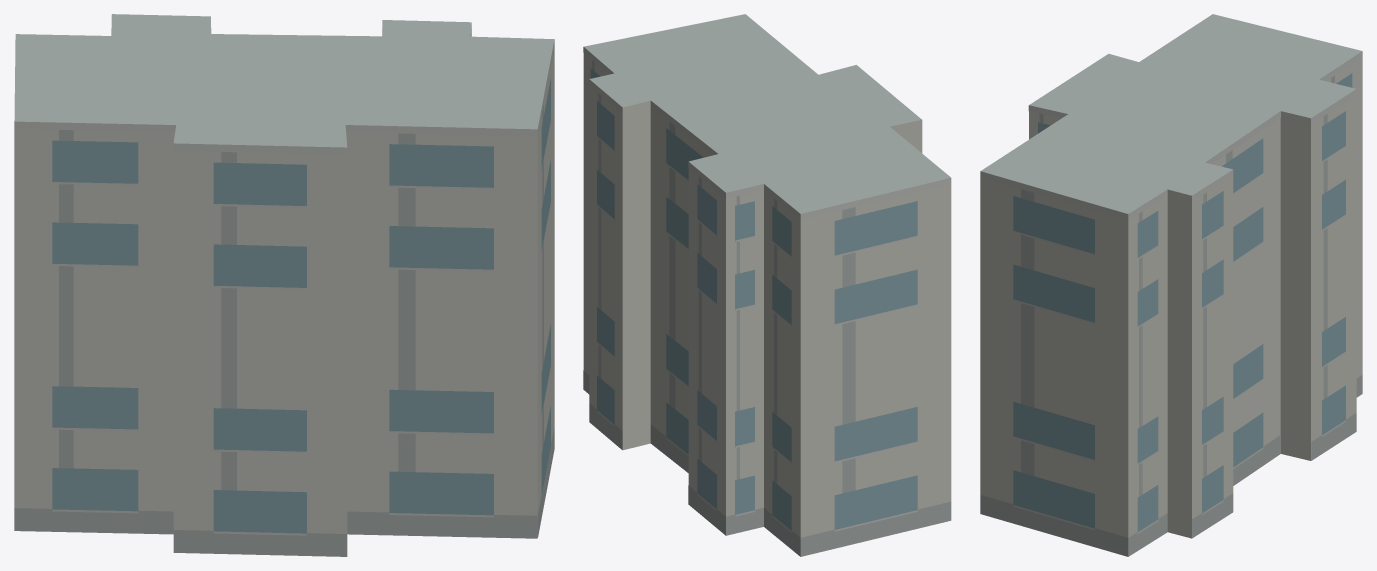
Rendered from survey-upis-32802492.glb.
3 views of the same model, side by side, from view 1: azimuth 30°, elevation 25°; view 2: azimuth 150°, elevation 25°; view 3: azimuth 270°, elevation 25° (orthographic). The views are drawn at different scales.
Visible parts, largest first — view 1: survey-upis-32802492.tmp; view 2: survey-upis-32802492.tmp; view 3: survey-upis-32802492.tmp.
Part boxes in pixels (<box>): survey-upis-32802492.tmp: <box>14,14,554,556</box>; survey-upis-32802492.tmp: <box>583,14,951,556</box>; survey-upis-32802492.tmp: <box>980,14,1362,556</box>.
Bounding box in the file's own units: 16.97 × 13.55 × 13.7.
